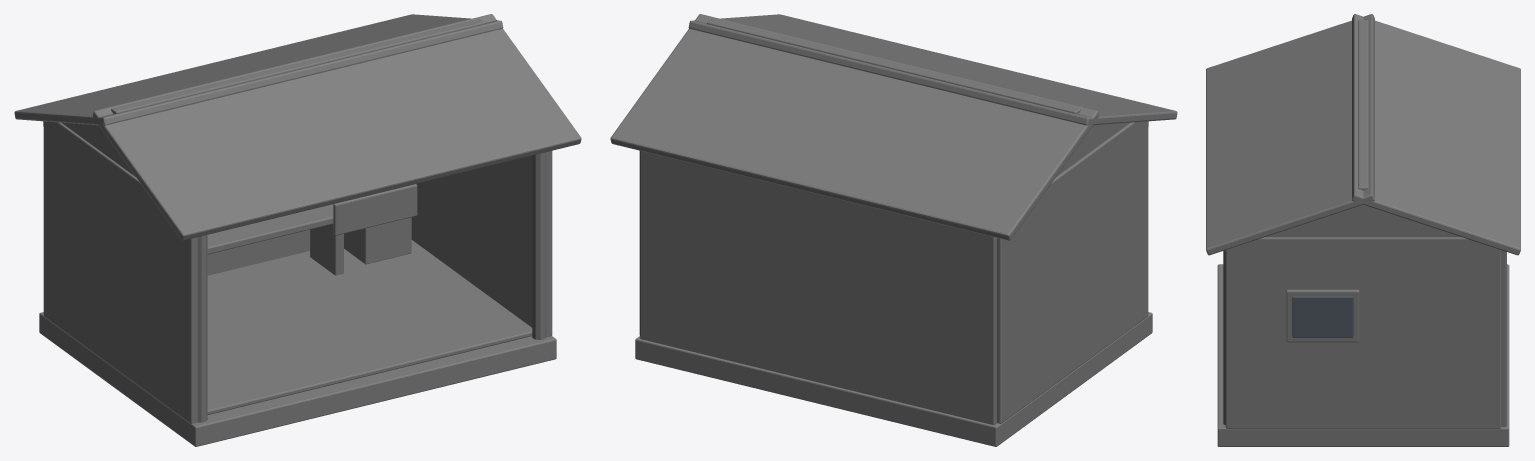
File: workshop.glb
3 views of the same model, side by side, from view 1: azimuth 30°, elevation 25°; view 2: azimuth 150°, elevation 25°; view 3: azimuth 270°, elevation 25° (orthographic). The views are drawn at different scales.
Visible parts, largest first — view 1: roof, floor, wallS, wallS.001, footing, roof.001, sign, post.002, ridge, benchTop, crateS.001, wallB (+3 smaller); view 2: wallB, roof.001, wallS, roof, footing, ridge, gable; view 3: wallS.001, roof, roof.001, footing, gable.001, winDark, ridge, winFrame, wallB, post.002.
Boxes of the visible parts, bbox=[...] form: roof: bbox=[92, 14, 581, 240]; floor: bbox=[207, 243, 532, 414]; wallS: bbox=[43, 121, 197, 423]; wallS.001: bbox=[411, 151, 552, 337]; footing: bbox=[39, 240, 556, 446]; roof.001: bbox=[14, 14, 503, 125]; sign: bbox=[333, 184, 417, 235]; post.002: bbox=[532, 152, 546, 339]; ridge: bbox=[111, 19, 484, 113]; benchTop: bbox=[207, 204, 333, 254]; crateS.001: bbox=[344, 217, 411, 264]; wallB: bbox=[207, 229, 309, 275]; wallB: bbox=[640, 151, 996, 424]; roof.001: bbox=[610, 14, 1099, 240]; wallS: bbox=[997, 121, 1148, 423]; roof: bbox=[688, 14, 1177, 125]; footing: bbox=[635, 312, 1152, 446]; ridge: bbox=[707, 19, 1080, 113]; gable: bbox=[1056, 122, 1129, 176]; wallS.001: bbox=[1225, 237, 1501, 428]; roof: bbox=[1206, 14, 1374, 255]; roof.001: bbox=[1352, 14, 1520, 255]; footing: bbox=[1217, 264, 1509, 446]; gable.001: bbox=[1265, 204, 1461, 237]; winDark: bbox=[1292, 296, 1353, 337]; ridge: bbox=[1358, 20, 1368, 190]; winFrame: bbox=[1286, 289, 1359, 342]; wallB: bbox=[1501, 250, 1506, 426]; post.002: bbox=[1223, 250, 1225, 424].
Size of the model in its own units: 5.3 by 3.57 by 3.89.
Materials: 8 (7 with a texture image).
